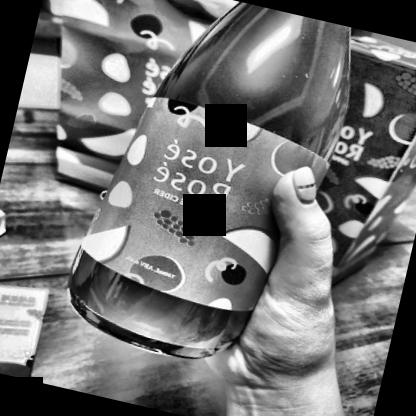yoserose: (84, 88, 331, 328)
